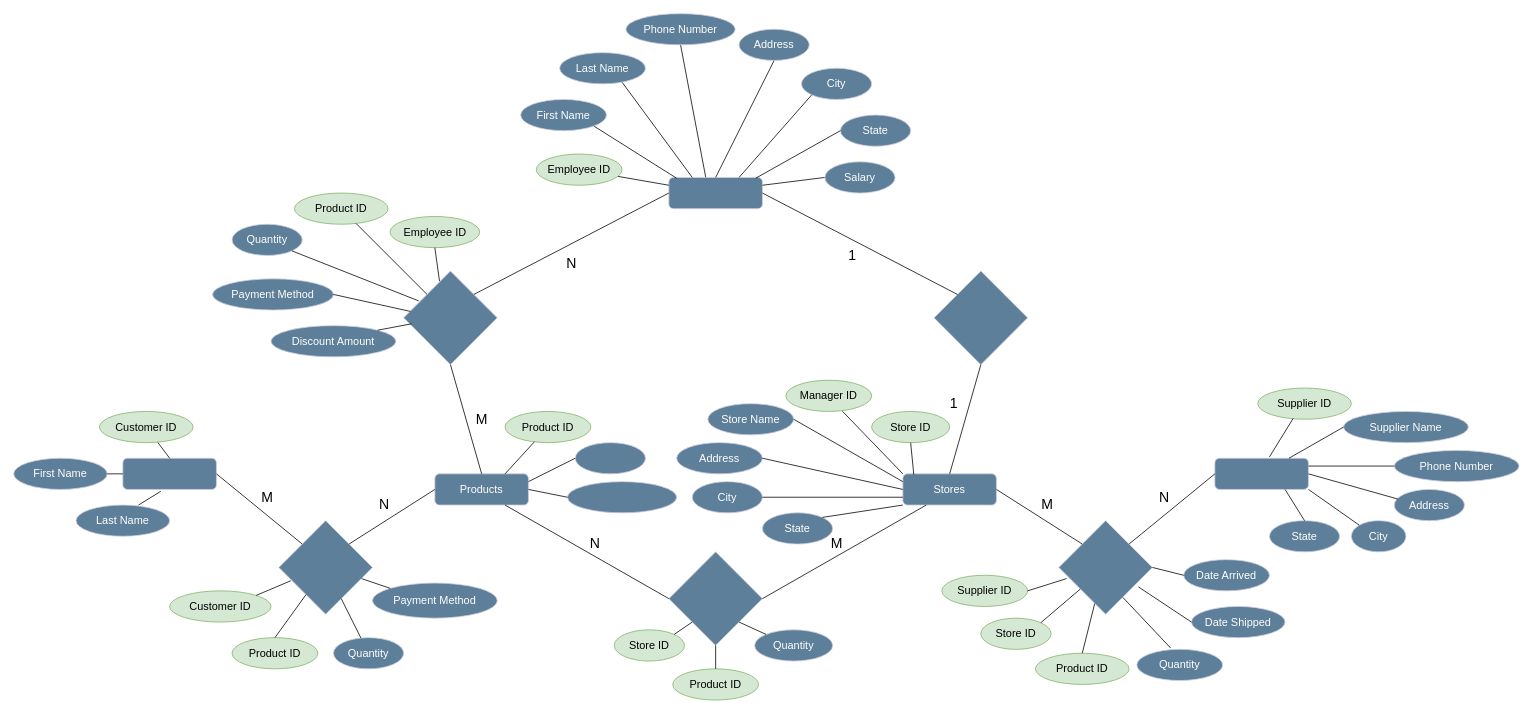
Image size: 1533x714. Some labels were removed from this diagram. The centre of each missing label's shape, as x and y in pixels:
"Customer Purchase Details" belongs at point 325,567.
"Customers" belongs at point 169,473.
"Employee Purchase Details" belongs at point 450,317.
"Employees" belongs at point 715,193.
"Inventory Details" belongs at point 715,598.
"Manager Of" belongs at point 980,317.
"Price" belongs at point 609,458.
"Product Name" belongs at point 622,497.
"Shipping Details" belongs at point 1105,567.
"Suppliers" belongs at point 1261,473.
